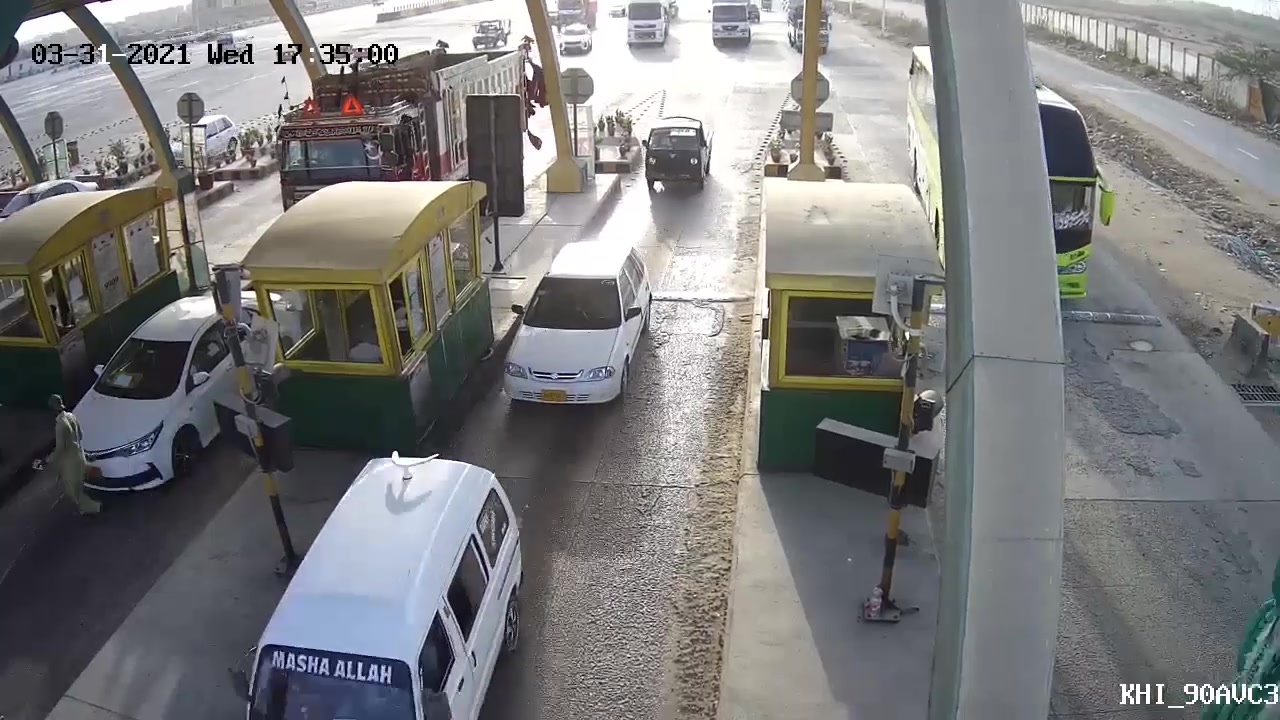F1: (500, 231, 653, 414)
